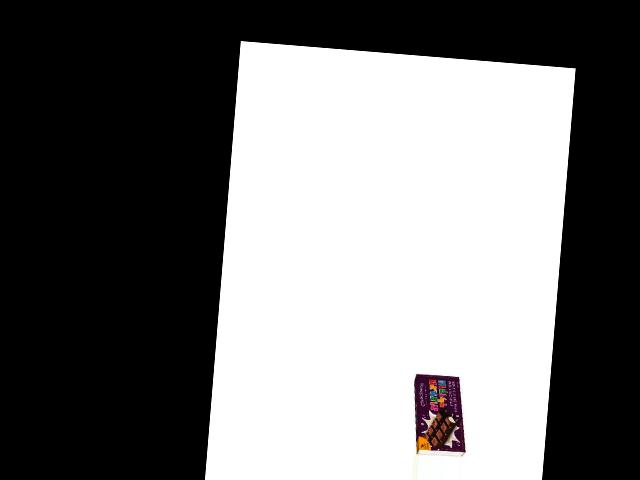chocolate: (408, 367, 468, 459)
